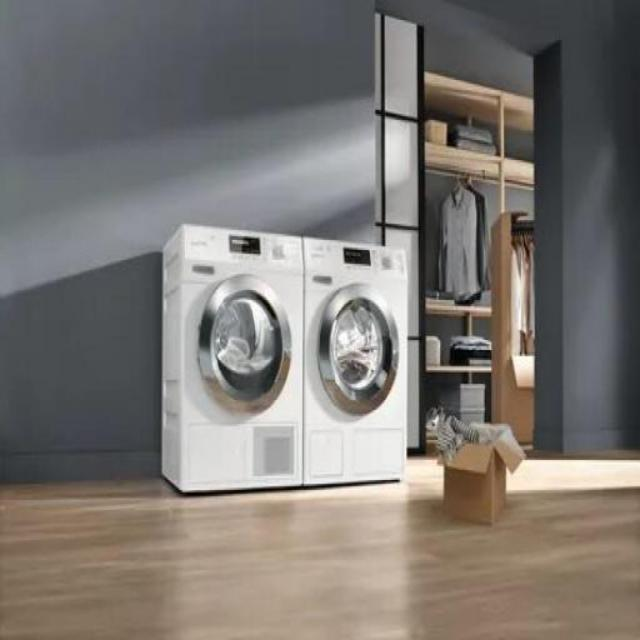Washing-Machine: (162, 228, 300, 490), (302, 235, 402, 485)
